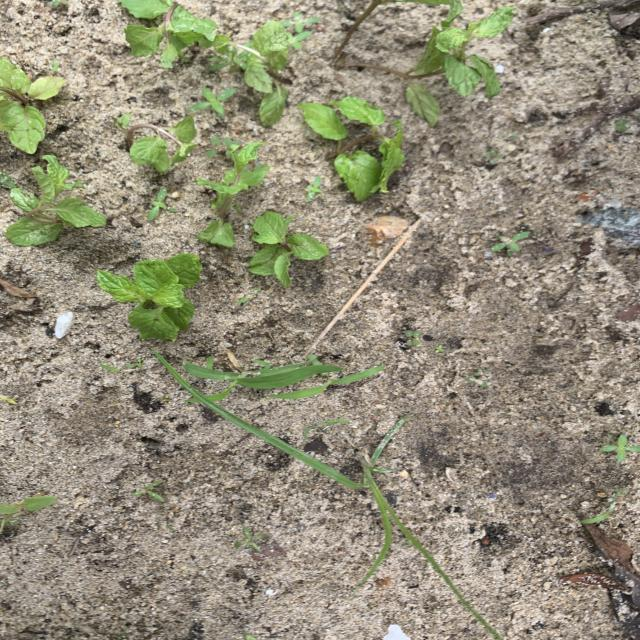crop: (404, 7, 512, 123), (299, 97, 403, 199), (4, 155, 105, 245), (97, 253, 200, 340), (208, 20, 291, 125), (196, 141, 267, 246), (121, 1, 216, 66), (1, 58, 62, 153), (250, 212, 327, 286), (130, 116, 195, 172)
weed: (153, 351, 487, 621), (170, 356, 342, 407), (277, 366, 383, 399), (1, 496, 56, 531), (190, 87, 235, 116), (602, 434, 639, 460), (492, 232, 529, 255), (148, 188, 175, 219), (304, 419, 348, 438), (280, 12, 319, 33), (235, 529, 267, 551), (131, 480, 163, 501), (236, 287, 259, 304), (306, 176, 320, 201), (404, 331, 420, 346), (0, 395, 15, 403), (50, 1, 67, 7), (245, 635, 256, 639)
